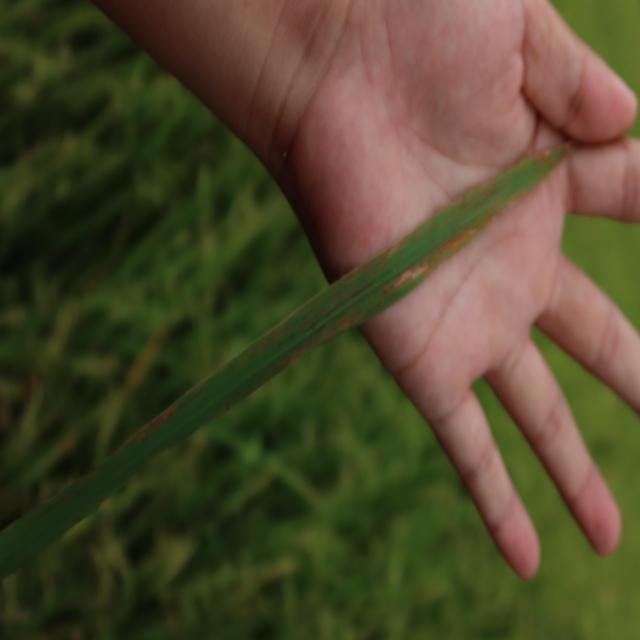Dom soc vi khuan: (390, 262, 427, 291), (447, 226, 477, 249)
